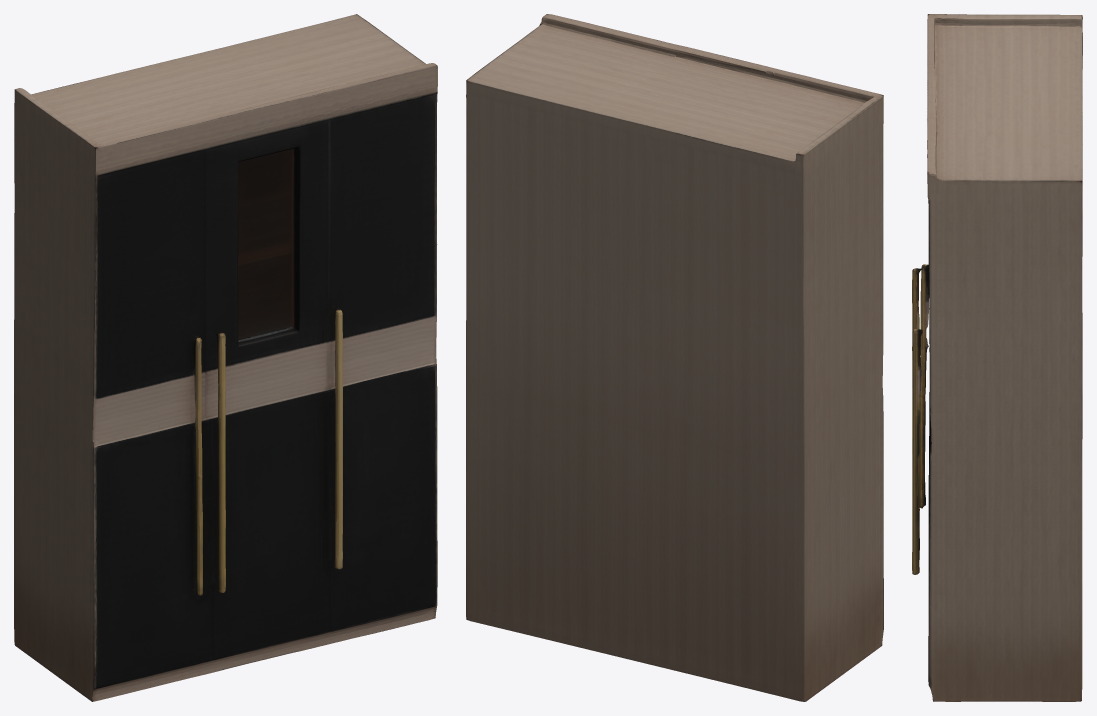
3 renders of one model, left to right at view 1: azimuth 30°, elevation 25°; view 2: azimuth 150°, elevation 25°; view 3: azimuth 270°, elevation 25°, orthographic. The views are drawn at different scales.
Parts seen in each view (by area): view 1: world; view 2: world; view 3: world.
Part boxes in pixels (bbox=[...]): world: bbox=[14, 14, 437, 701]; world: bbox=[466, 14, 883, 701]; world: bbox=[912, 14, 1082, 701].
Bounding box in the file's own units: 0.6452 × 0.9977 × 0.2919.
1 material, 1 textured.
